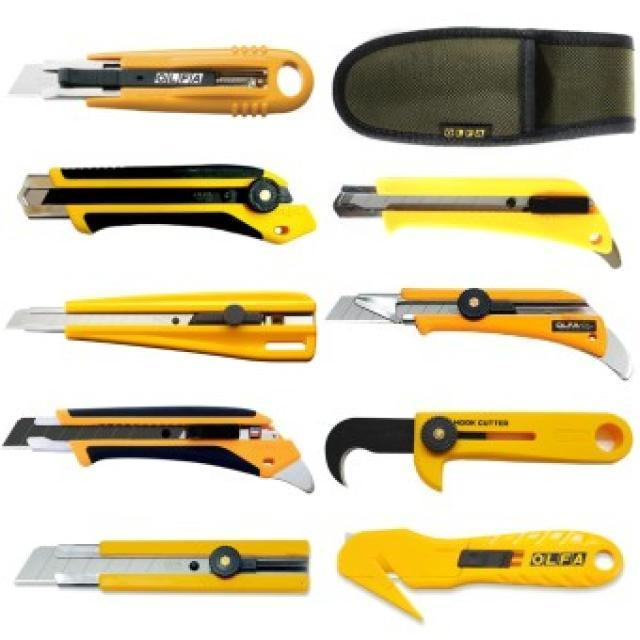cutter: (0, 394, 324, 506), (0, 148, 326, 252), (7, 42, 330, 140), (0, 282, 322, 370), (7, 520, 320, 603), (328, 175, 640, 244), (326, 284, 632, 352)
